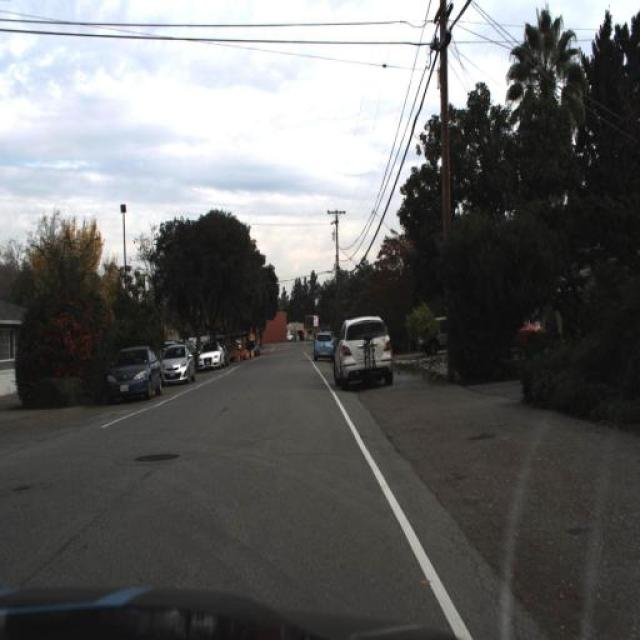car: (330, 308, 395, 392), (103, 342, 159, 403), (160, 337, 194, 384), (417, 312, 452, 348), (197, 342, 223, 370), (312, 331, 334, 364)
